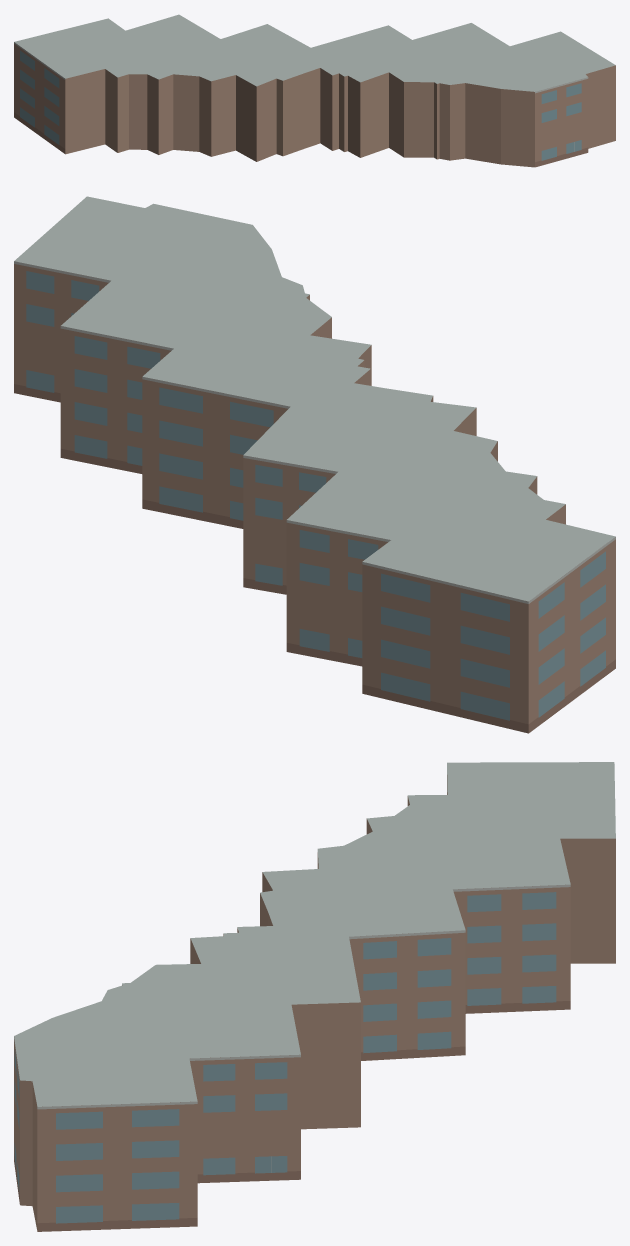
Rendered from survey-upis-32497887.glb.
3 renders of one model, top to bottom at view 1: azimuth 30°, elevation 25°; view 2: azimuth 150°, elevation 25°; view 3: azimuth 270°, elevation 25°, orthographic. The views are drawn at different scales.
Parts seen in each view (by area): view 1: survey-upis-32497887.tmp; view 2: survey-upis-32497887.tmp; view 3: survey-upis-32497887.tmp.
Boxes of the visible parts, bbox=[...] form: survey-upis-32497887.tmp: bbox=[14, 14, 615, 167]; survey-upis-32497887.tmp: bbox=[14, 196, 615, 733]; survey-upis-32497887.tmp: bbox=[14, 762, 615, 1231].
Size of the model in its own units: 72.23 by 12.2 by 53.27.
